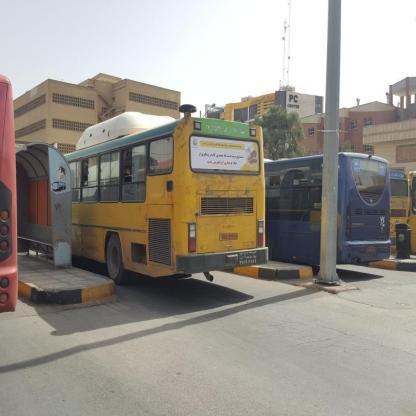Bus: (61, 108, 272, 304), (263, 150, 394, 274)
